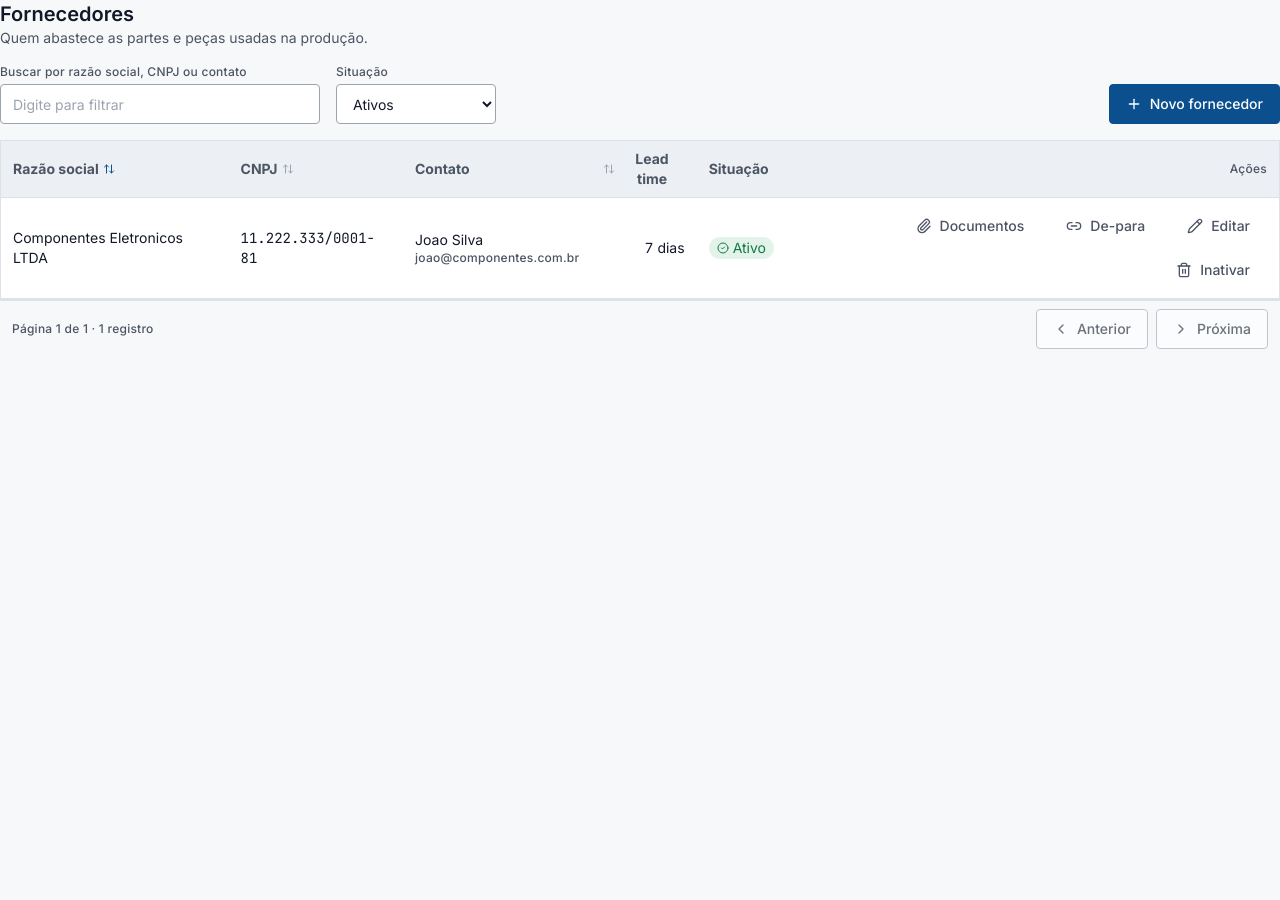
Test: Fornecedores › "Documentos" na linha abre o modal com os anexos do fornecedor (3.1)
Click the button with aria-label "Documentos de Componentes Eletronicos LTDA" at (970,226), box left=899, top=206, right=1041, bottom=246
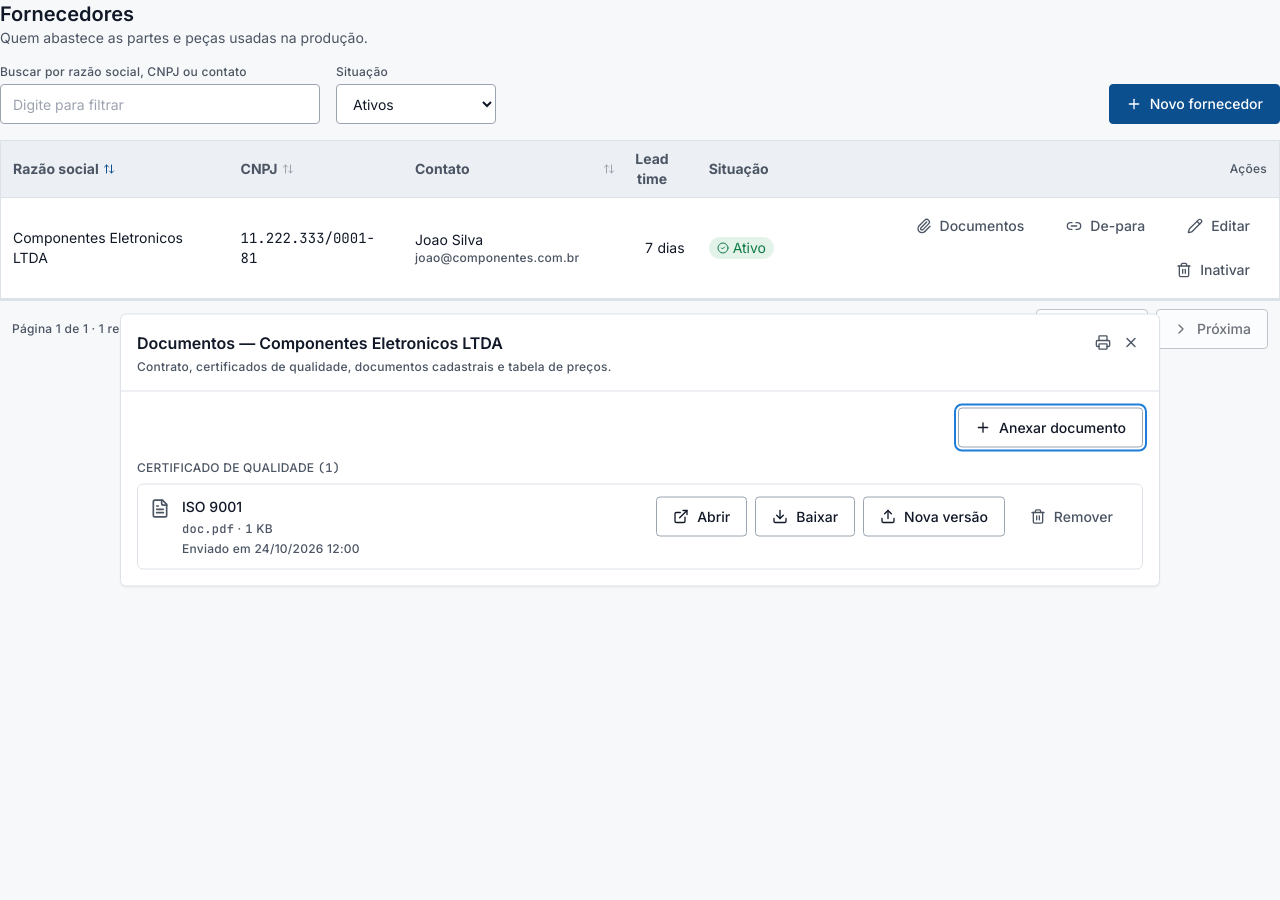
Expected: the text "ISO 9001" is shown, left=182, top=498, right=242, bottom=514
Expected: the button "Anexar documento" is shown, left=958, top=408, right=1143, bottom=448
Expected: the button with aria-label "Remover ISO 9001" is shown, left=1013, top=496, right=1130, bottom=536
